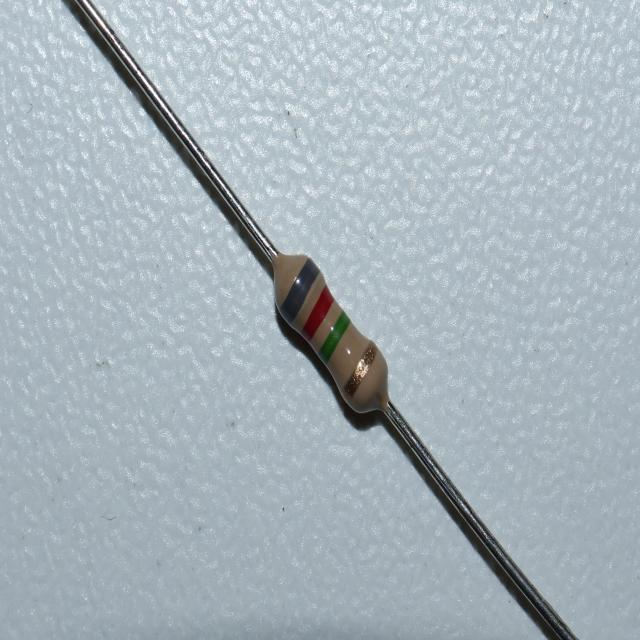resistor: (274, 256, 392, 415)
